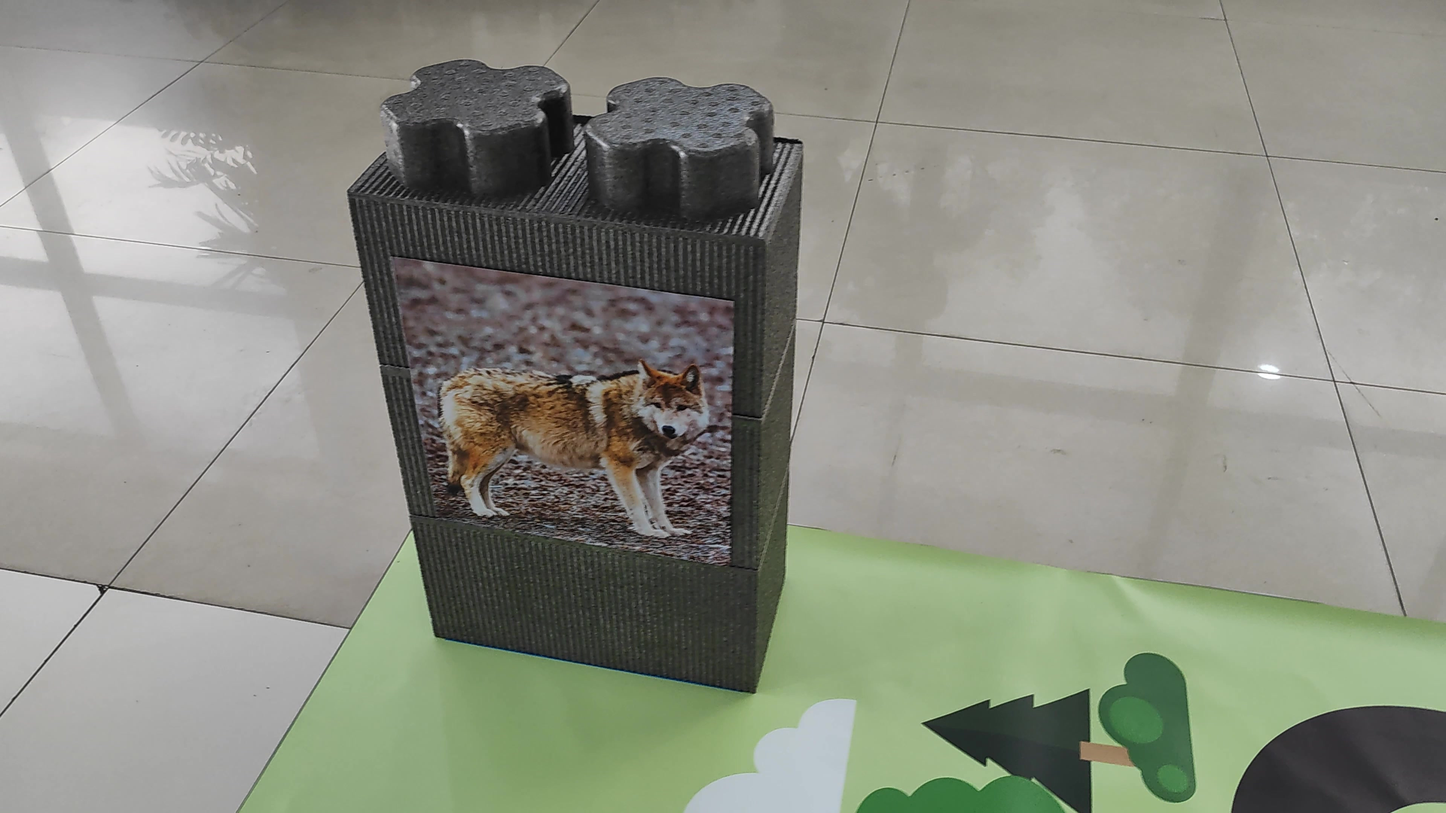wolf: (412, 317, 747, 553)
